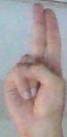U: (1, 0, 67, 137)
